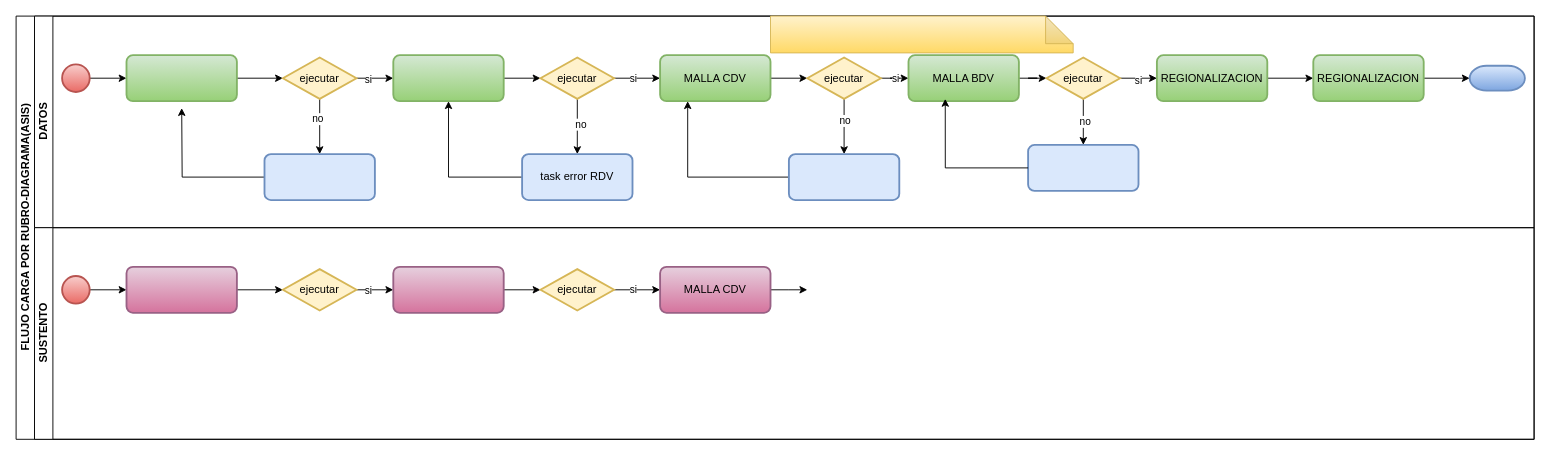
The diagram is 1550 pixels wide and 455 high, and some of its shapes have lost their labels. The centre of each missing label's shape, as x and y in pixels:
"INGESTA TABLA CTRL" belongs at (x=181, y=289).
"INGESTA TABLA FACT-SOPORTE" belongs at (x=448, y=289).
"la ejecucion de cada capa se realiza de manera namual." belongs at (x=921, y=34).
"MALLA RDV" belongs at (x=448, y=78).
"MALLA STG" belongs at (x=181, y=78).
"task error BDV" belongs at (x=1083, y=167).
"task error CDV" belongs at (x=844, y=177).
"task error STG" belongs at (x=319, y=177).
